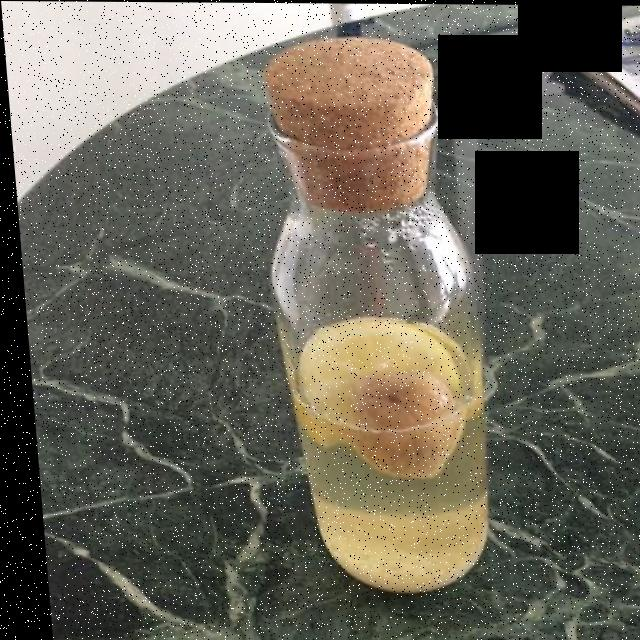kefir-drink: (296, 332, 503, 571)
lemon: (288, 295, 462, 466)
